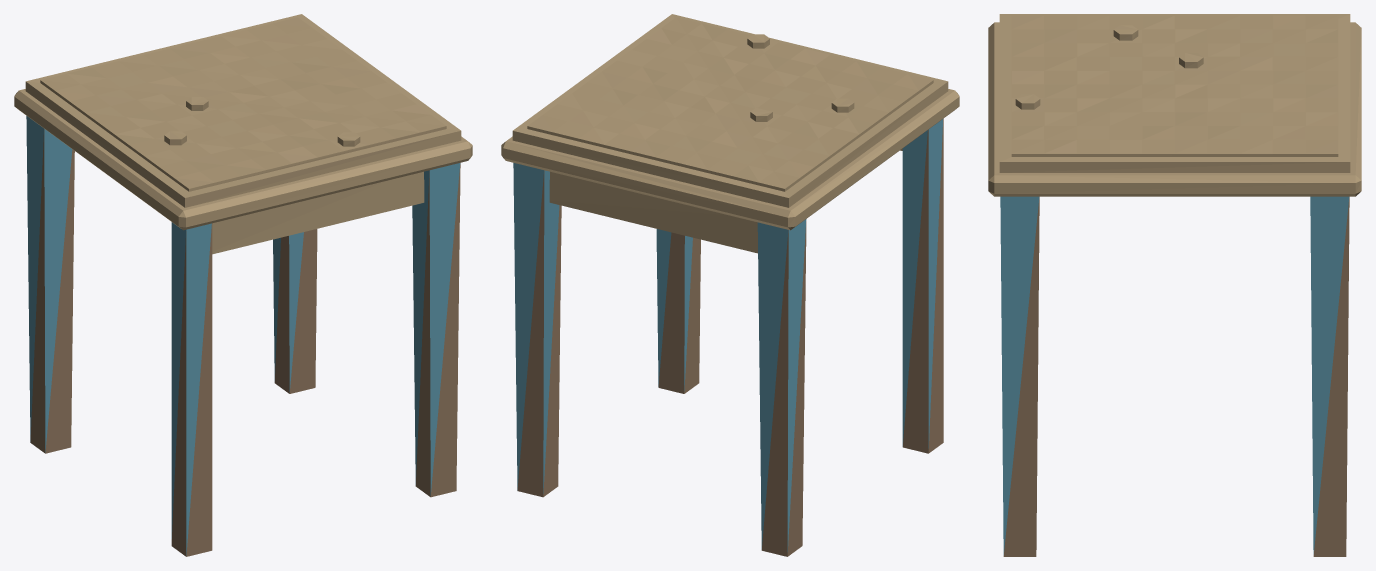
Rendered from draughts-table-00.glb.
3 renders of one model, left to right at view 1: azimuth 30°, elevation 25°; view 2: azimuth 150°, elevation 25°; view 3: azimuth 270°, elevation 25°, orthographic. The views are drawn at different scales.
Parts seen in each view (by area): view 1: draughts_table_00; view 2: draughts_table_00; view 3: draughts_table_00.
Part boxes in pixels (x1,y1,x2,y2): draughts_table_00: (14,14,472,556); draughts_table_00: (501,14,959,556); draughts_table_00: (988,14,1361,556).
Size of the model in its own units: 0.6282 by 0.7549 by 0.6282.
